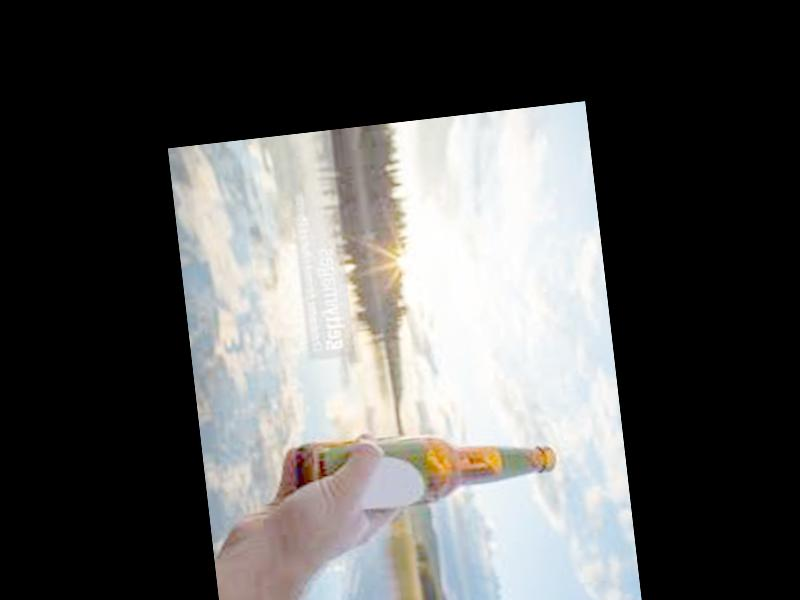Beer: (295, 411, 561, 519)
